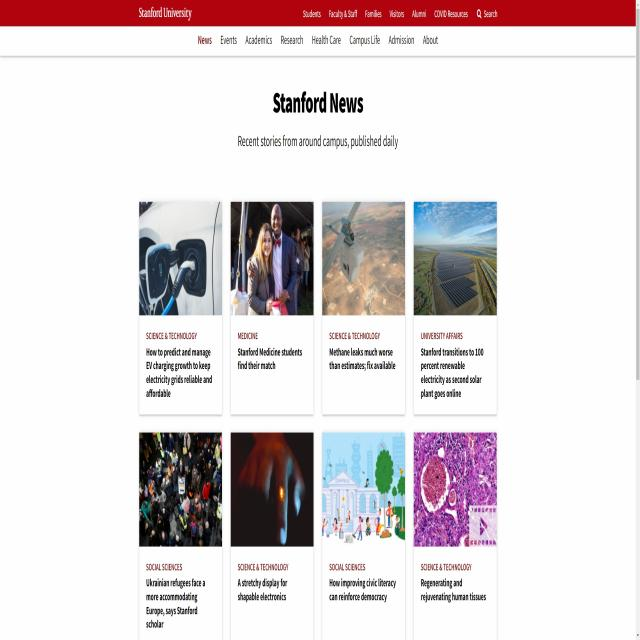menu-bar: (298, 4, 500, 24)
tab-bar: (195, 29, 442, 54)
